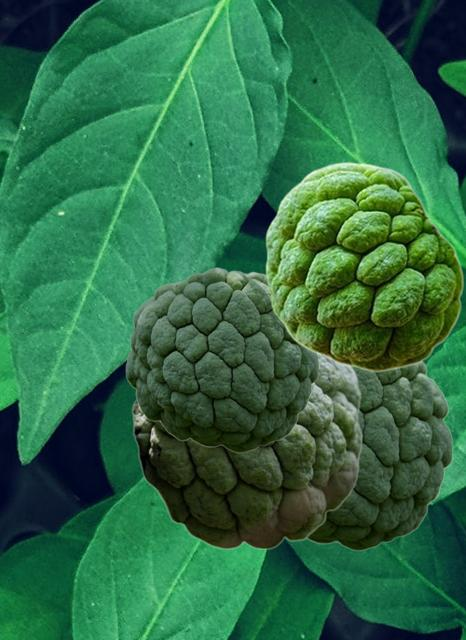atis: (131, 356, 362, 549), (265, 161, 463, 371), (125, 267, 318, 452), (307, 362, 452, 550)
